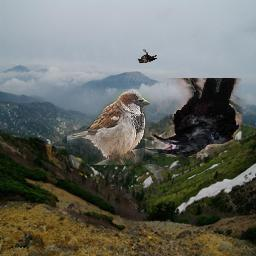Crow: (146, 79, 243, 158), (137, 49, 157, 63)
Sparrow: (68, 89, 151, 165)
